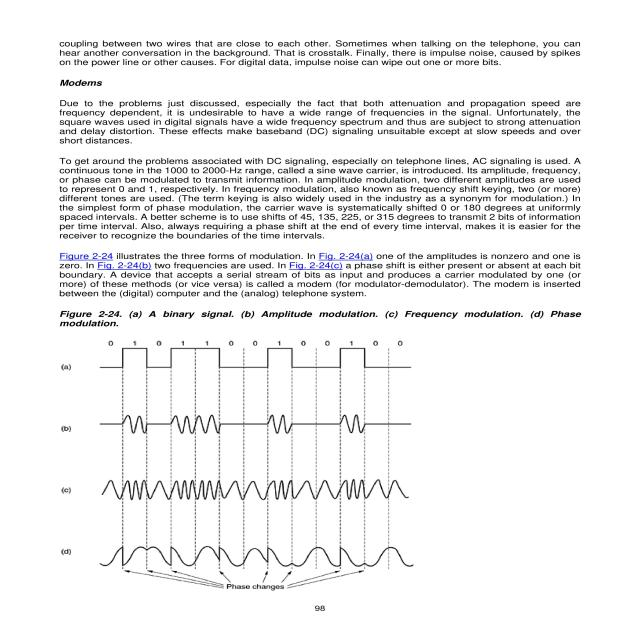diagram: (20, 301, 640, 596)
